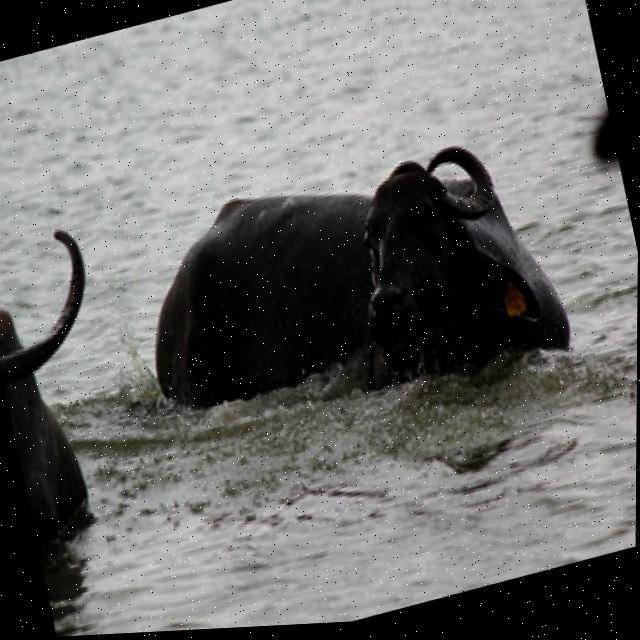Buffalo: (121, 109, 586, 459)
